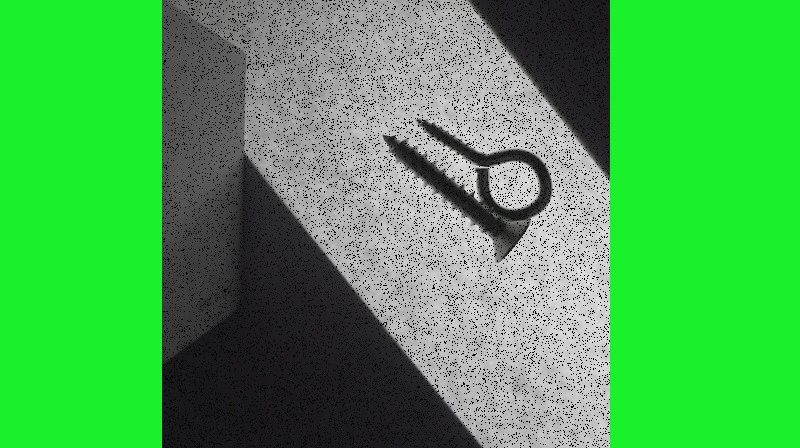O001: (417, 115, 553, 224)
S001: (381, 131, 531, 263)
